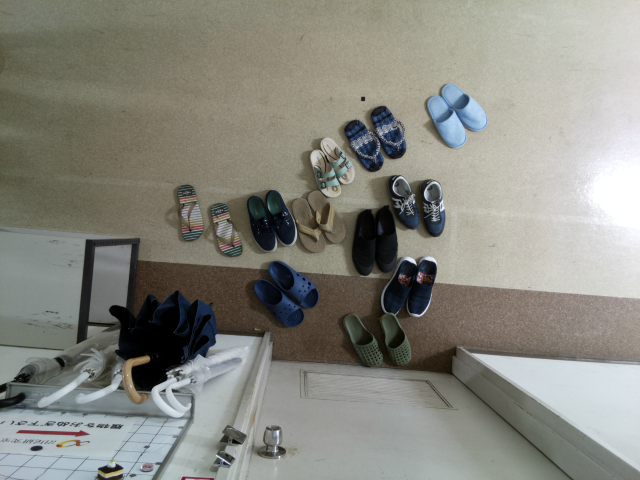Copy of Copy of Copy of Copy of Copy of Copy of Copy of sandal: (370, 104, 408, 161)
Copy of Copy of Copy of Copy of Copy of Copy of Copy of shoe: (419, 178, 445, 237)
Copy of Copy of Copy of Copy of Copy of Copy of sandal: (343, 118, 384, 172)
Copy of Copy of Copy of Copy of Copy of Copy of shoe: (386, 174, 420, 230)
Copy of Copy of Copy of Copy of Copy of sandal: (319, 136, 354, 185)
Copy of Copy of Copy of Copy of Copy of shoe: (406, 255, 438, 317)
Copy of Copy of Copy of Copy of Copy of slipper: (341, 311, 384, 369)
Copy of Copy of Copy of Copy of sandal: (310, 149, 343, 197)
Copy of Copy of Copy of Copy of shoe: (379, 255, 418, 314)
Copy of Copy of Copy of Copy of slipper: (378, 312, 412, 369)
Copy of Copy of Copy of sandal: (305, 190, 345, 244)
Copy of Copy of Copy of shoe: (374, 203, 400, 273)
Copy of Copy of Copy of slipper: (440, 82, 488, 132)
Copy of Copy of sandal: (291, 197, 325, 253)
Copy of Copy of shoe: (350, 208, 377, 277)
Copy of Copy of slipper: (426, 93, 467, 149)
Copy of sandal: (209, 201, 244, 257)
Copy of shoe: (265, 189, 297, 248)
Copy of slipper: (252, 278, 304, 327)
sandal: (176, 183, 204, 242)
shoe: (245, 194, 277, 253)
slipper: (269, 259, 318, 309)
